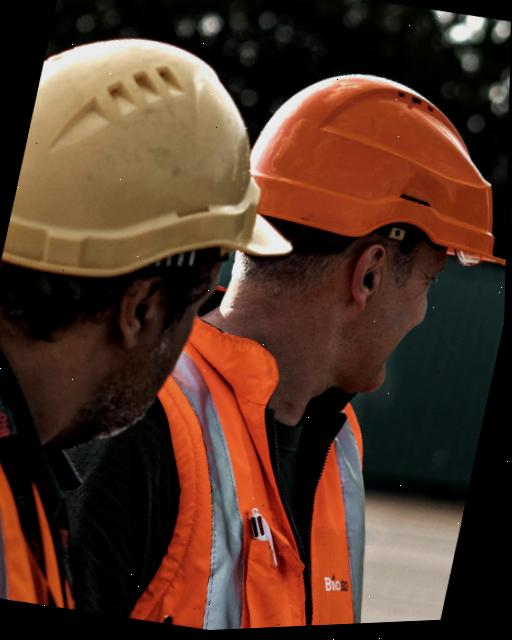helmet: (0, 21, 333, 321), (229, 45, 511, 286)
vest: (90, 301, 424, 636), (0, 381, 121, 612)
